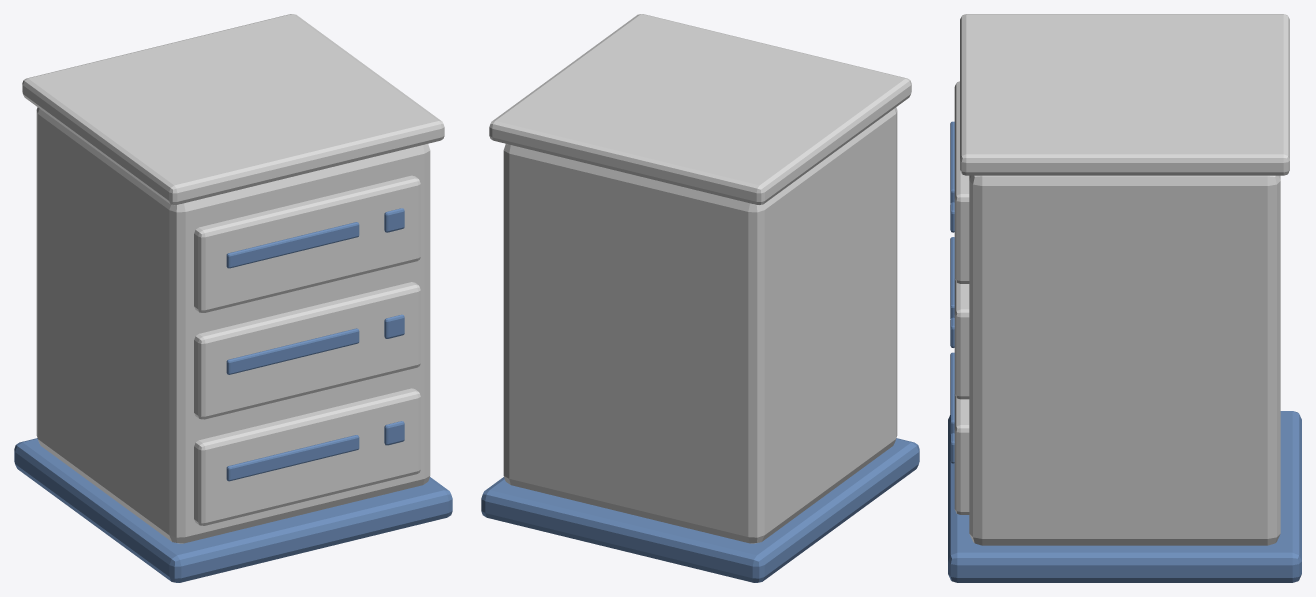
The model's file is server.glb.
3 views of the same model, side by side, from view 1: azimuth 30°, elevation 25°; view 2: azimuth 150°, elevation 25°; view 3: azimuth 270°, elevation 25° (orthographic). The views are drawn at different scales.
Parts seen in each view (by area): view 1: cabinet, roof, bay.2, bay.0, bay.1, plinth, slot.0, slot.2, slot.1; view 2: cabinet, roof, plinth; view 3: cabinet, roof, plinth, bay.2, bay.0, bay.1.
Boxes of the visible parts, x1=… form: cabinet: x1=36, y1=107, x2=430, y2=543; roof: x1=22, y1=14, x2=444, y2=205; bay.2: x1=194, y1=175, x2=420, y2=312; bay.0: x1=194, y1=388, x2=420, y2=525; bay.1: x1=194, y1=282, x2=420, y2=419; plinth: x1=14, y1=438, x2=452, y2=582; slot.0: x1=226, y1=435, x2=359, y2=481; slot.2: x1=226, y1=222, x2=359, y2=268; slot.1: x1=226, y1=328, x2=359, y2=374; cabinet: x1=503, y1=107, x2=897, y2=543; roof: x1=489, y1=14, x2=911, y2=205; plinth: x1=481, y1=438, x2=919, y2=582; cabinet: x1=969, y1=175, x2=1280, y2=545; roof: x1=960, y1=14, x2=1289, y2=175; plinth: x1=948, y1=411, x2=1301, y2=582; bay.2: x1=954, y1=81, x2=969, y2=283; bay.0: x1=954, y1=394, x2=969, y2=514; bay.1: x1=954, y1=279, x2=969, y2=399.
Bounding box in the file's own units: 1.5 × 2 × 1.5.
